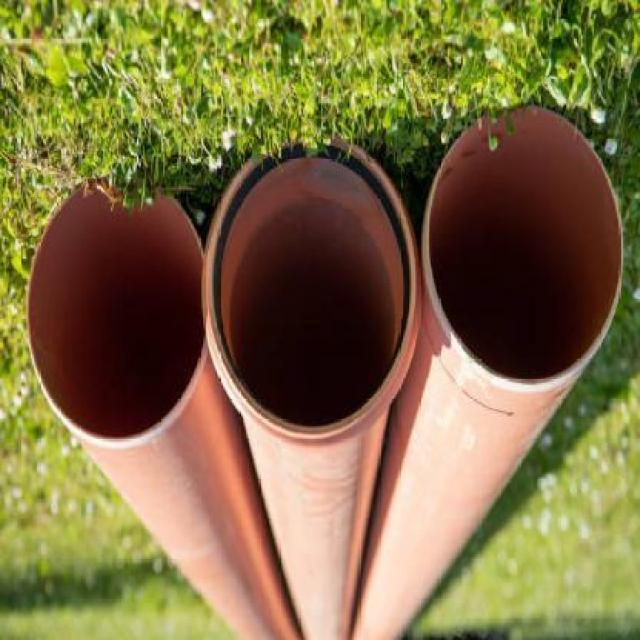pipe: (206, 137, 420, 436), (423, 109, 623, 385), (28, 180, 208, 442)
